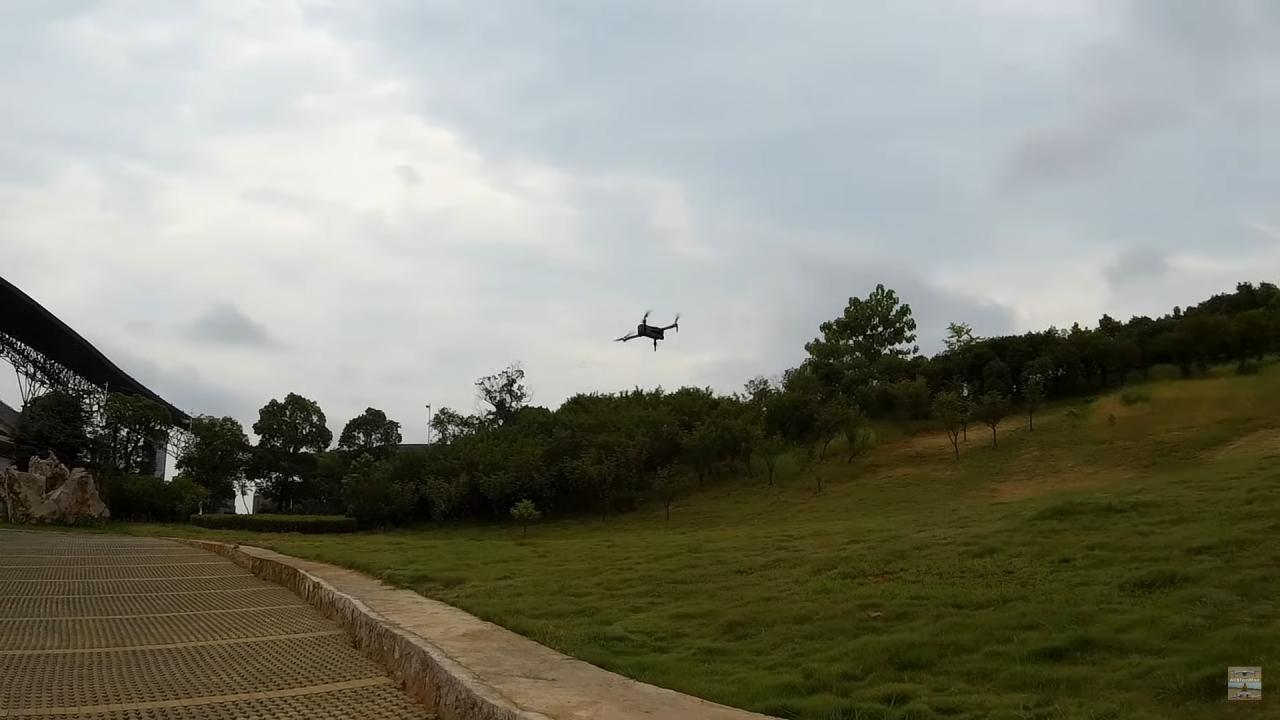Drone: (611, 299, 689, 361)
